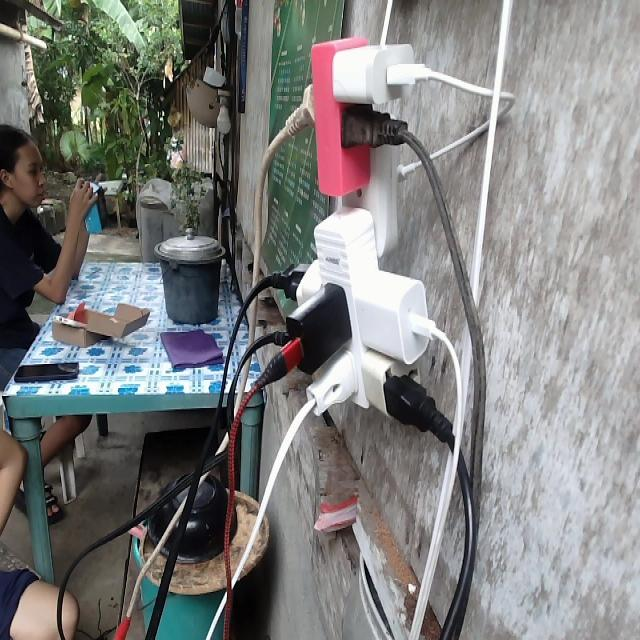-: (265, 33, 468, 440)
